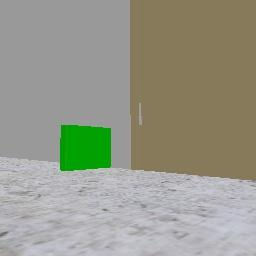verde: (61, 125, 110, 170)
